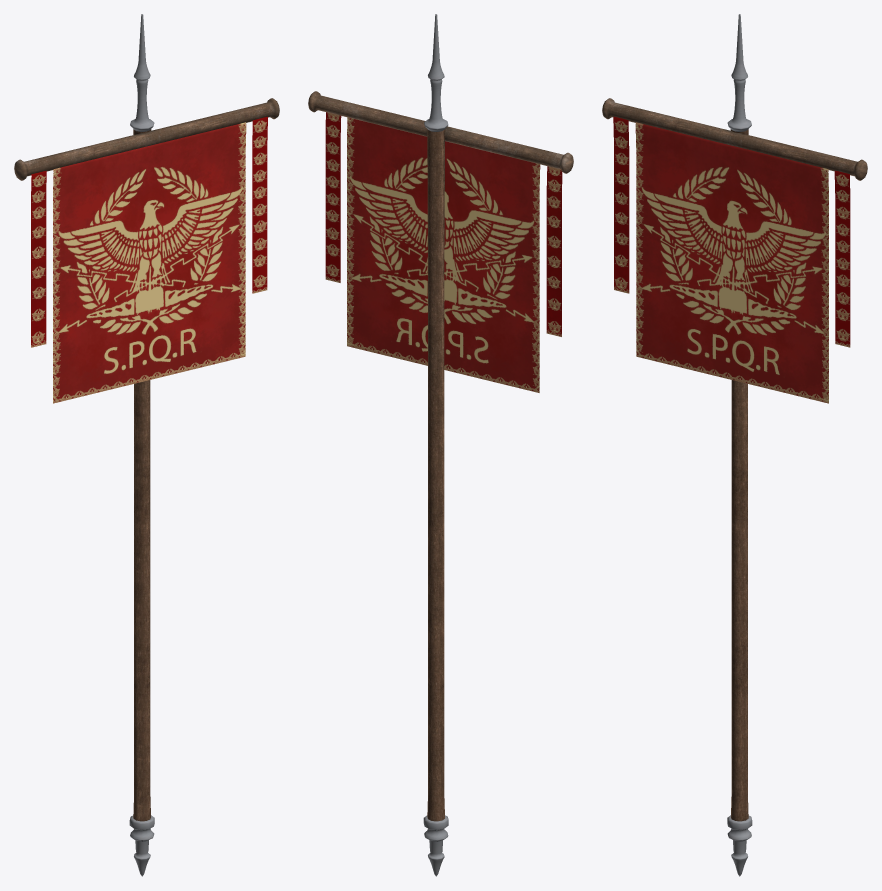
File: warbanner.glb
3 views of the same model, side by side, from view 1: azimuth 30°, elevation 25°; view 2: azimuth 150°, elevation 25°; view 3: azimuth 330°, elevation 25° (orthographic).
Parts seen in each view (by area): view 1: polySurface8 (×7); view 2: polySurface8 (×7); view 3: polySurface8 (×7).
Boxes of the visible parts, box(x1,y1,x2,y2) form: polySurface8 (×7): box(14, 14, 279, 876); polySurface8 (×7): box(308, 14, 573, 876); polySurface8 (×7): box(602, 14, 867, 876).
Bounding box in the file's own units: 0.6325 × 2 × 0.0674.
7 materials, 7 textured.
